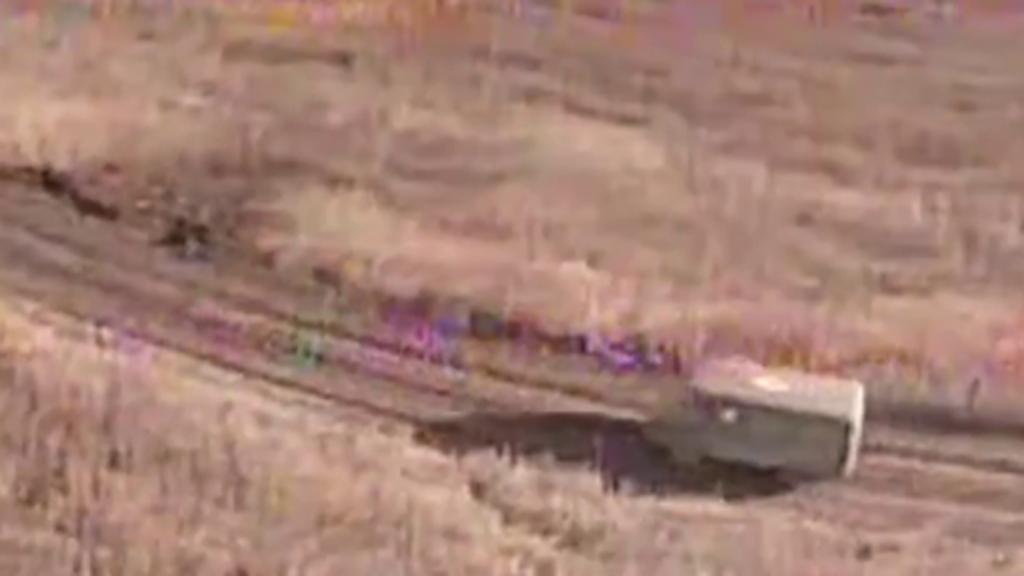CAR: (660, 351, 868, 492)
